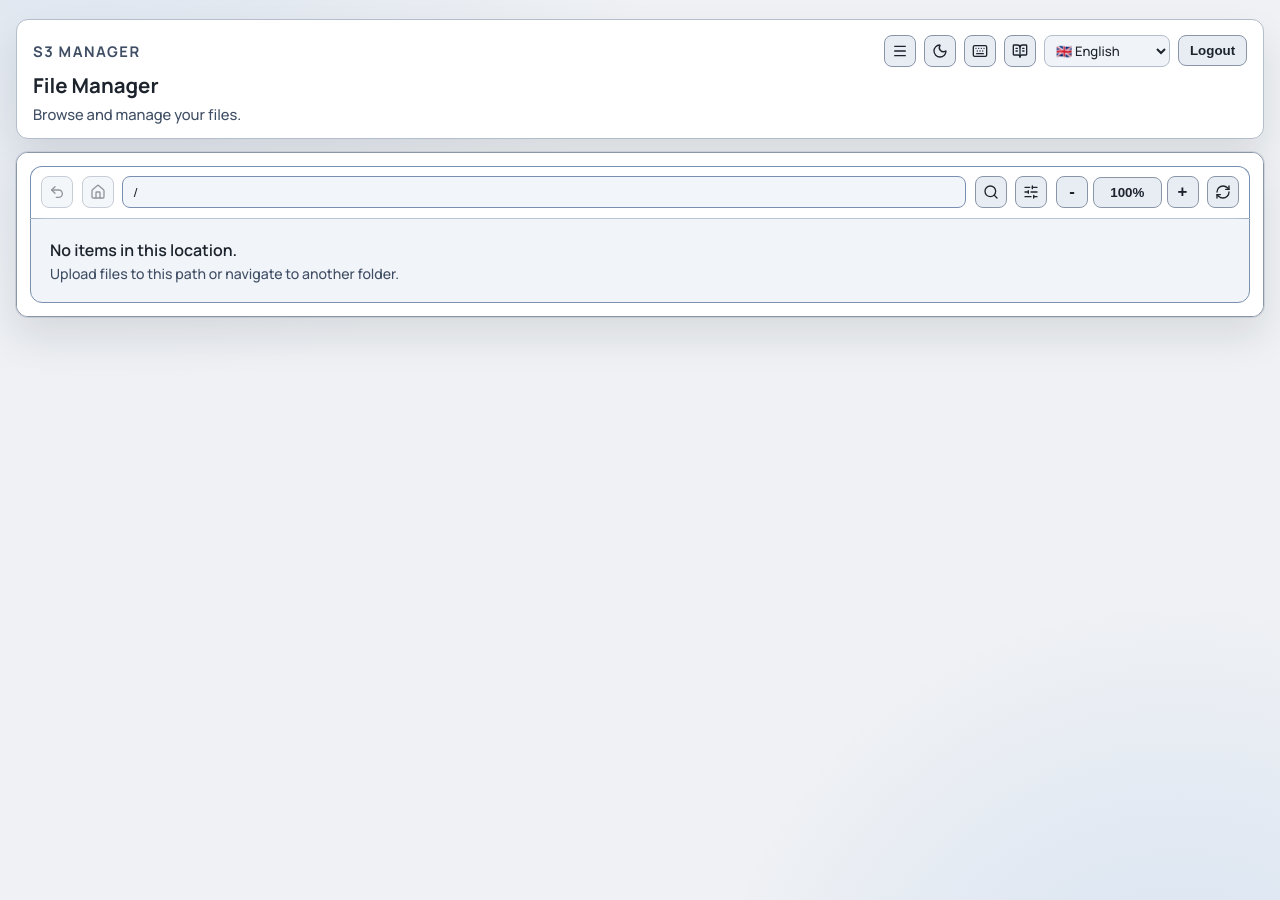
Scenario: App routes › shows mock authorization badge in dev when enabled
The width and height of the screenshot is (1280, 900).
Click the button named "Show session panel" at (900, 51), box [884,35,916,67]
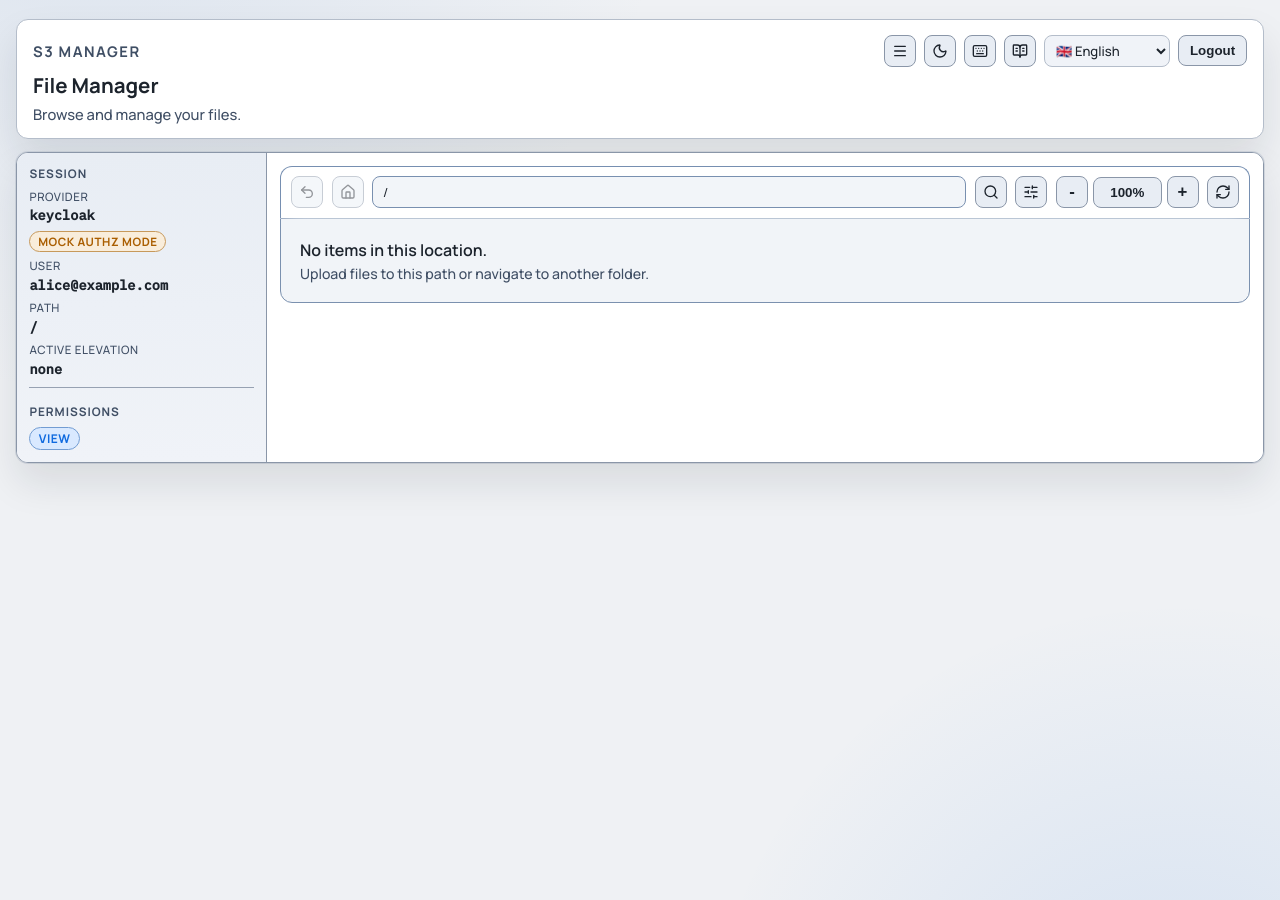
Now the text "Mock authz mode" is shown, box [30,231,166,252]
